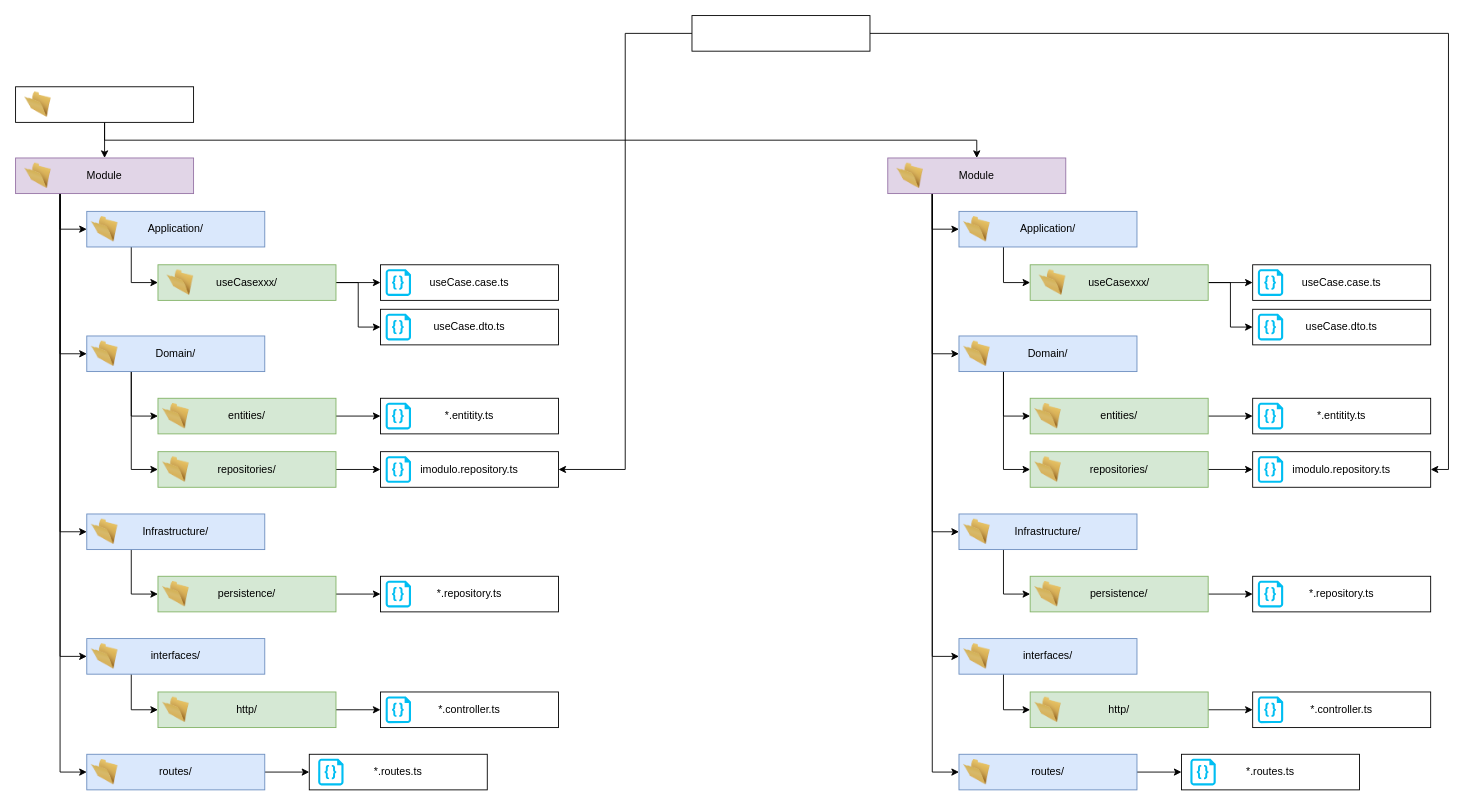
Image size: 1471x805. Some labels were removed from this diagram. Here are the shapes that lost their labels. From the top down, the box of each, then its label:
(691, 15, 870, 51): igeneral.repository.ts
(15, 86, 194, 122): app
